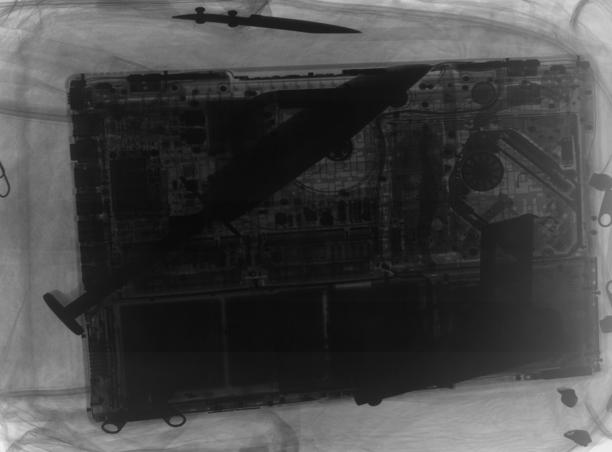Handgun: (349, 211, 564, 410)
Knife: (41, 61, 434, 340)
